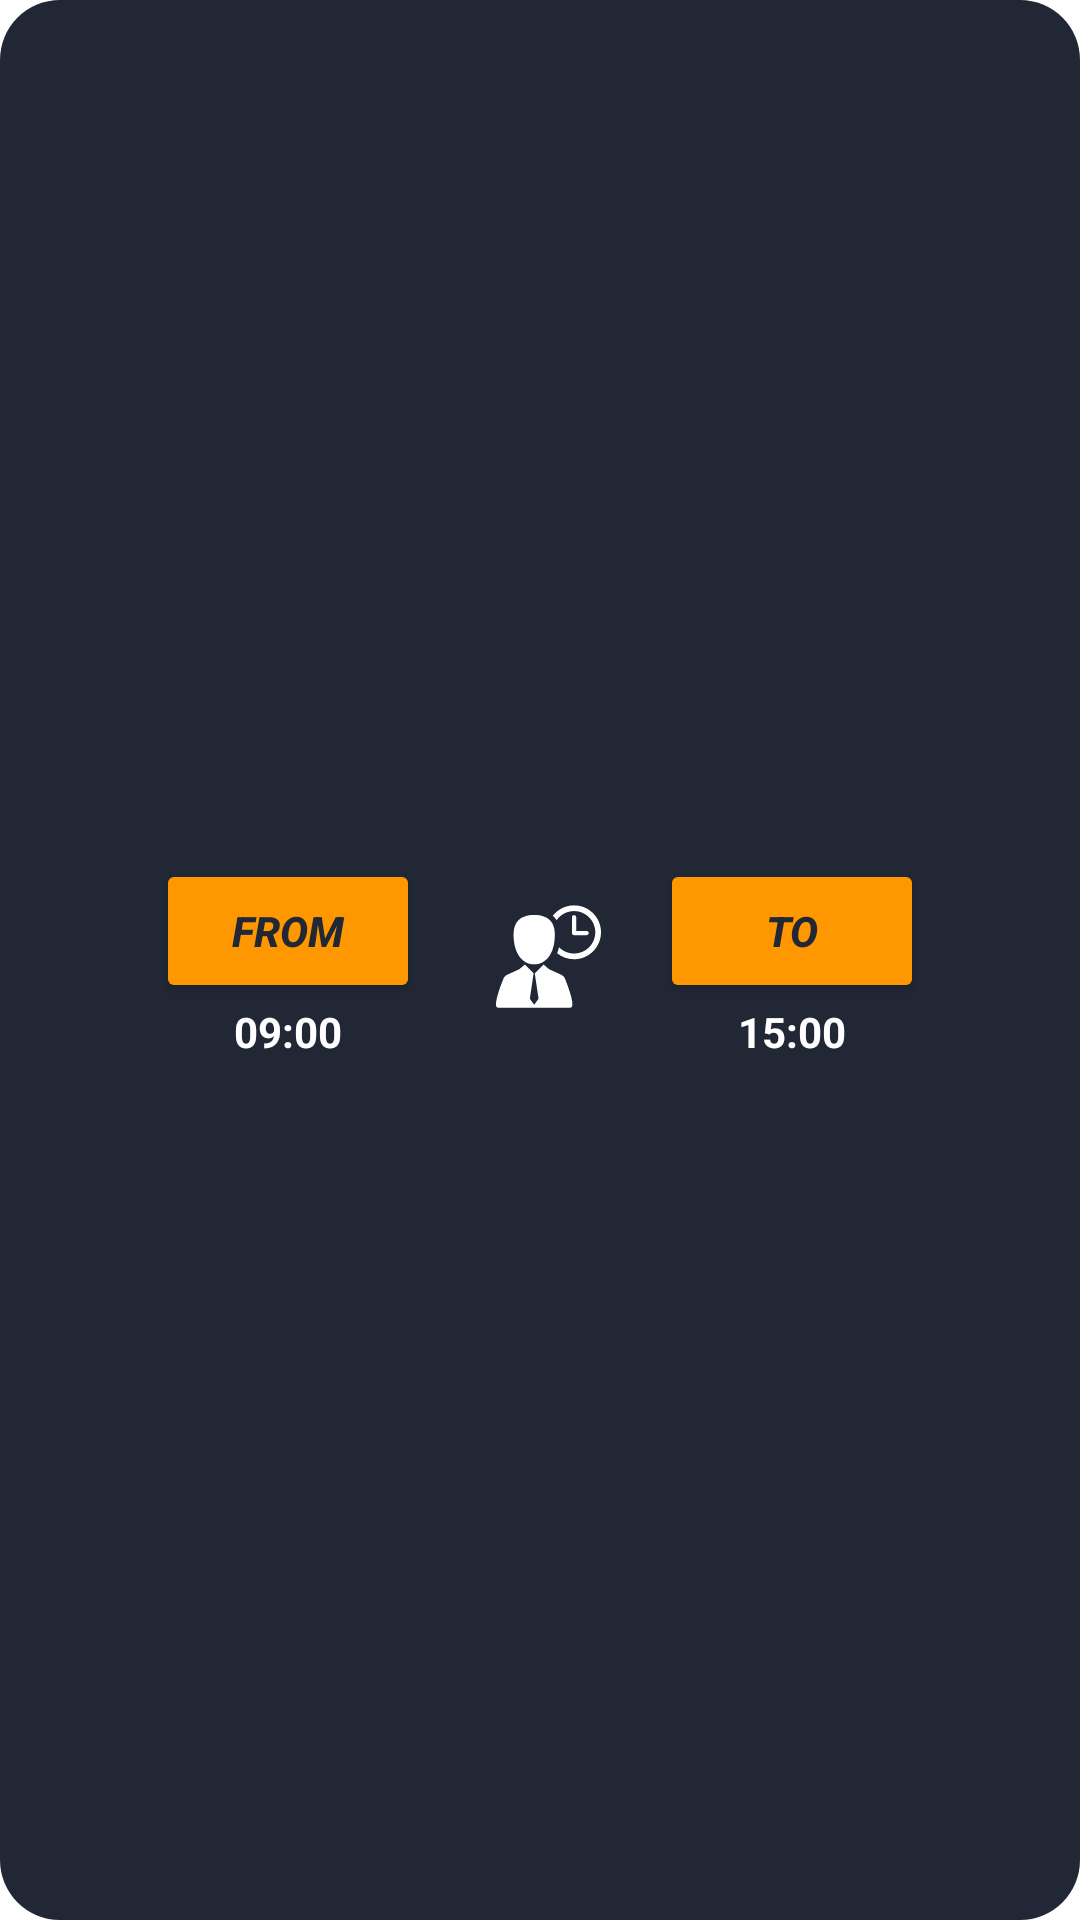

Screen size 1080px x 1920px. Icon name, then its center in pixels as [x,y]:
work timetable: [548,956]
